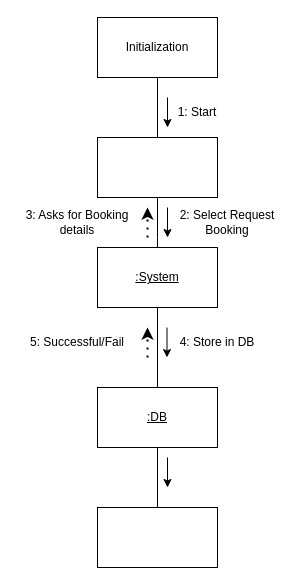
This 304x585 diagram has some shape labels left out. The box of each missing label's shape, as (x1, y1, x2, y2) in pixels:
:Student: (96, 136, 218, 198)
End: (96, 506, 218, 568)
